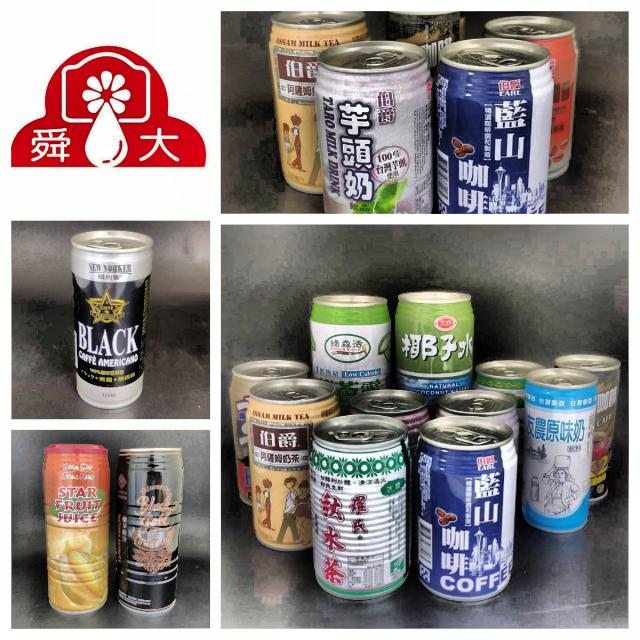can: (312, 36, 443, 219), (436, 34, 550, 218), (268, 0, 369, 201), (411, 414, 517, 599), (309, 412, 414, 598), (58, 212, 154, 411), (244, 375, 345, 554), (481, 13, 579, 180), (38, 437, 116, 619), (227, 349, 312, 511), (520, 364, 598, 534), (114, 442, 186, 616), (305, 288, 401, 411), (555, 343, 623, 506), (391, 287, 478, 398), (350, 381, 435, 446), (434, 384, 529, 433), (385, 2, 468, 55), (473, 351, 545, 401)
